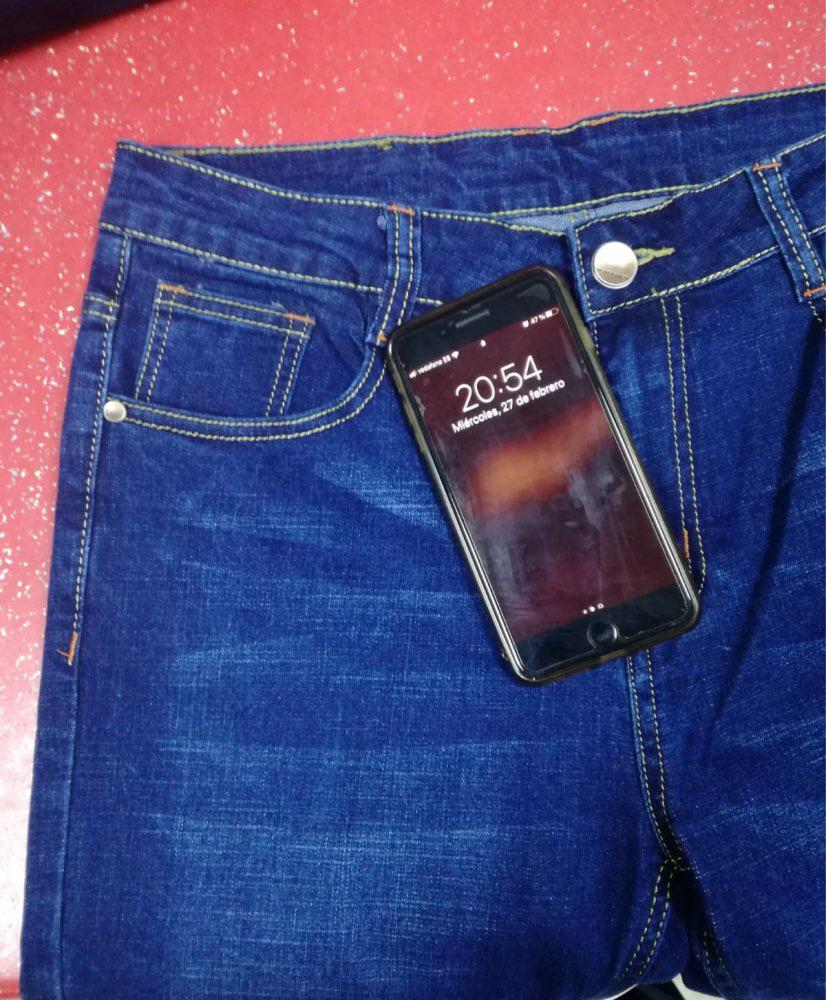jeans: (55, 103, 826, 905)
